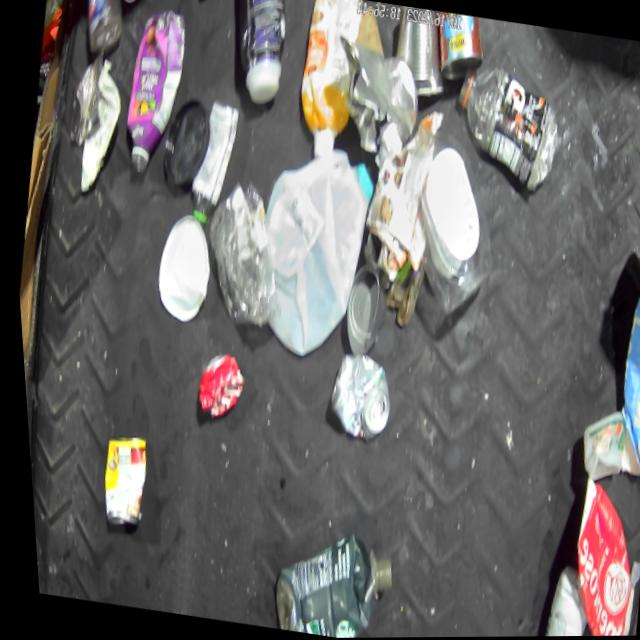can: (320, 33, 430, 161), (316, 350, 394, 445), (385, 6, 455, 100), (87, 430, 147, 533), (61, 47, 112, 148), (334, 262, 387, 358), (186, 349, 246, 424), (429, 12, 490, 85)
milk_jug: (240, 143, 385, 365)
non_white_jug: (112, 6, 196, 178), (284, 0, 368, 158), (597, 286, 640, 480)
plastic_bottle: (441, 60, 567, 198)
